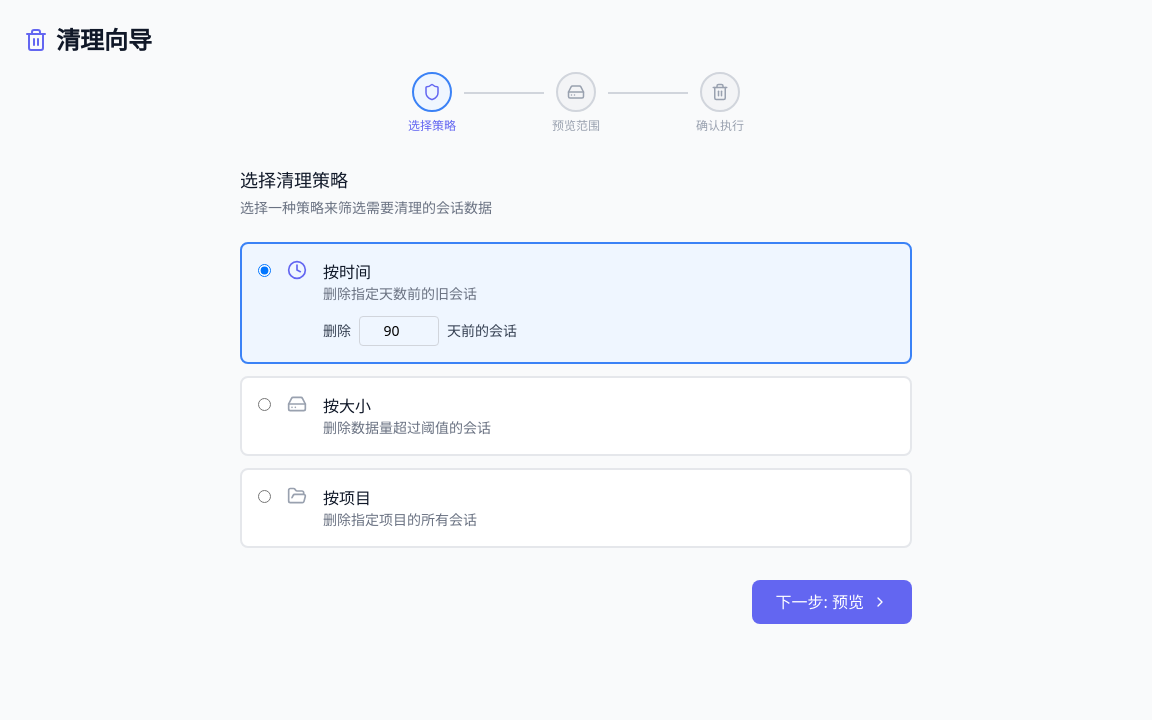
Test: Cleanup 摘要口径（P2-12） › v2：与 v1 一样走比例估算（2 * 100/2 = 100），不再用消息数
Click the button "下一步: 预览": [832, 602] box [752, 580, 912, 624]
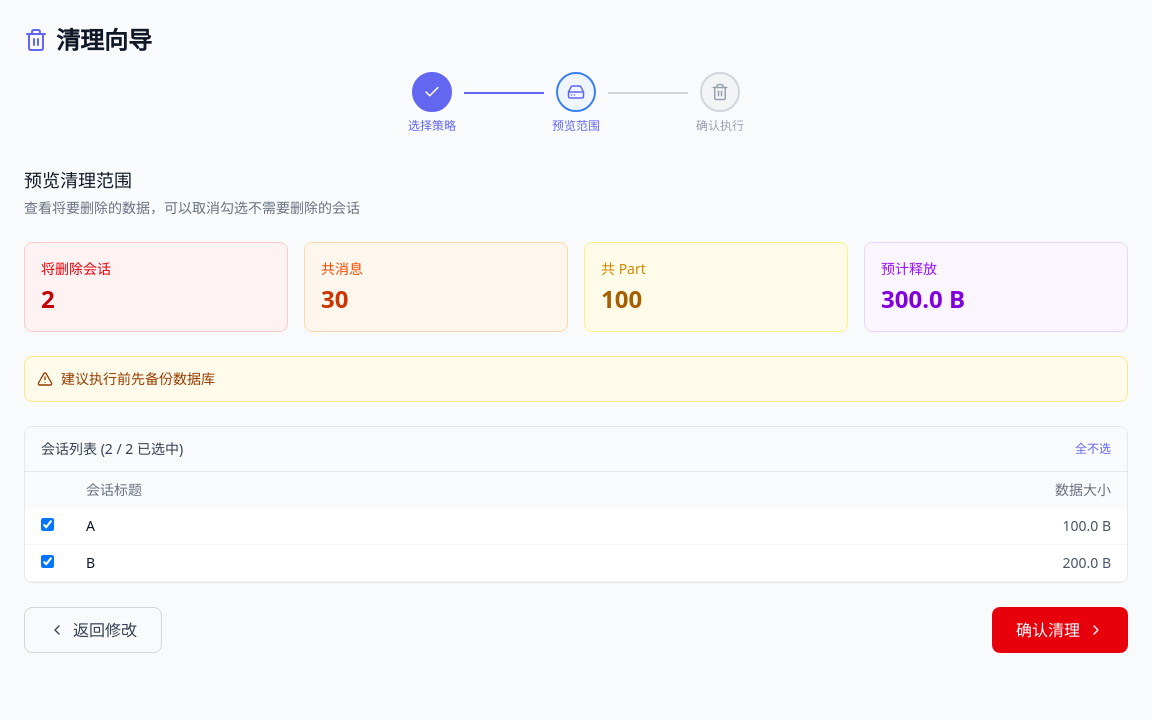
Check: the heading "预览清理范围" is shown, box [24, 168, 132, 192]
